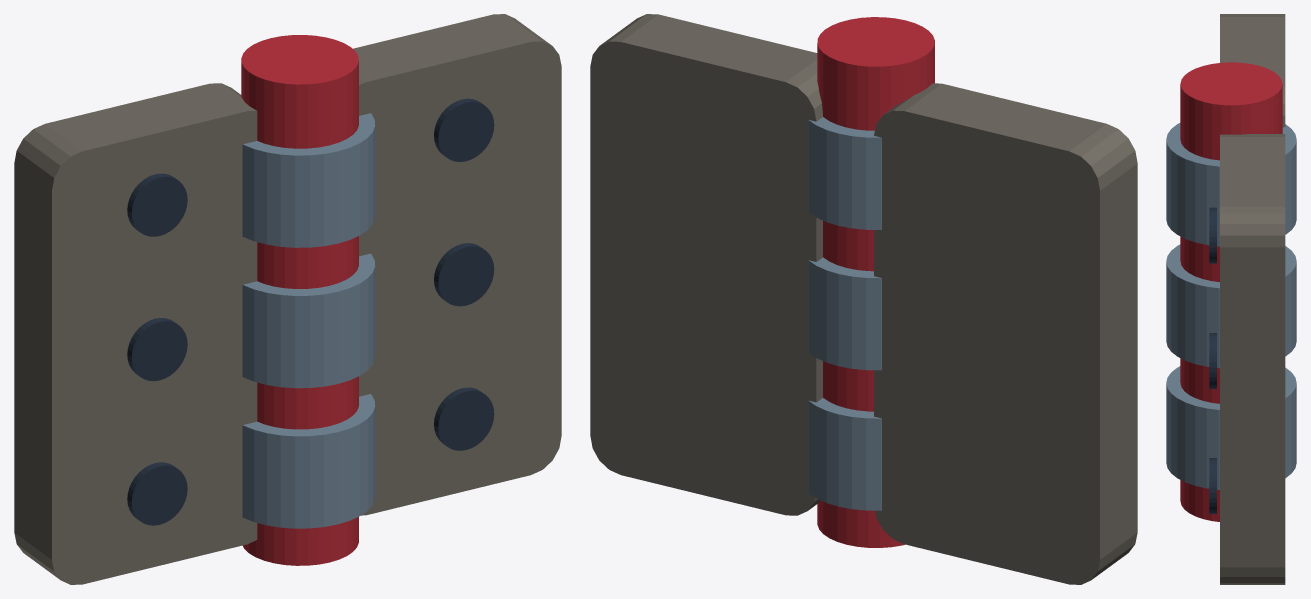
File: hingeplate.glb
3 views of the same model, side by side, from view 1: azimuth 30°, elevation 25°; view 2: azimuth 150°, elevation 25°; view 3: azimuth 270°, elevation 25° (orthographic). The views are drawn at different scales.
Visible parts, largest first — view 1: leaf-1, leaf1, pin, fixing hole (×6), knuckle0.24, knuckle0.94, knuckle0.59; view 2: leaf-1, leaf1, pin, knuckle0.24, knuckle0.59, knuckle0.94; view 3: leaf1, pin, knuckle0.24, knuckle0.59, knuckle0.94, leaf-1, fixing hole (×3).
Boxes of the visible parts, x1,y1,x2,y2 form: leaf-1: [14, 83, 257, 584]; leaf1: [353, 14, 561, 515]; pin: [241, 35, 358, 565]; fixing hole (×6): [127, 98, 494, 525]; knuckle0.24: [242, 394, 375, 528]; knuckle0.94: [242, 113, 375, 247]; knuckle0.59: [242, 253, 375, 388]; leaf-1: [874, 83, 1137, 584]; leaf1: [590, 14, 822, 515]; pin: [817, 17, 934, 547]; knuckle0.24: [808, 398, 881, 510]; knuckle0.59: [808, 257, 881, 370]; knuckle0.94: [808, 117, 881, 229]; leaf1: [1220, 134, 1285, 584]; pin: [1180, 62, 1282, 521]; knuckle0.24: [1166, 366, 1296, 489]; knuckle0.59: [1166, 244, 1296, 368]; knuckle0.94: [1166, 123, 1296, 246]; leaf-1: [1220, 14, 1285, 127]; fixing hole (×3): [1209, 207, 1216, 513].
Size of the model in its own units: 1.33 by 1.2 by 0.34.
